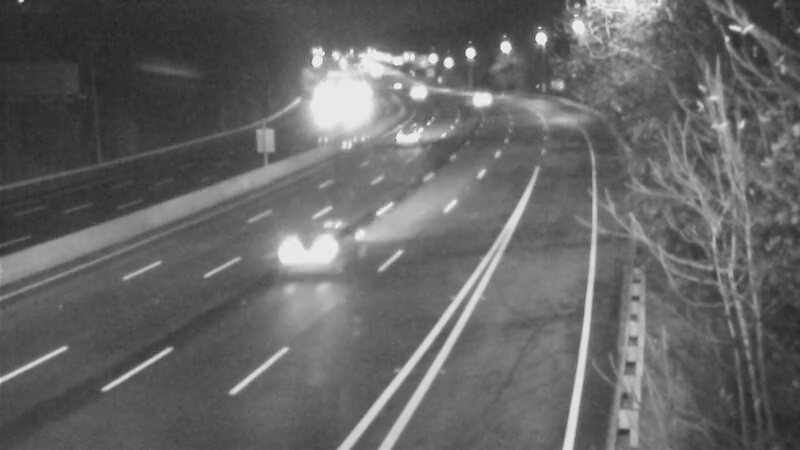vehicle: (269, 213, 349, 293), (390, 63, 440, 113), (453, 77, 503, 127), (379, 110, 429, 160)
